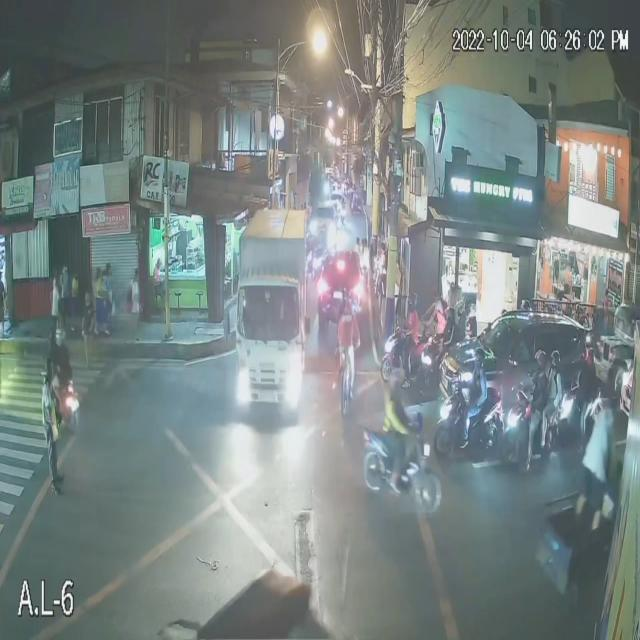Full-Faced: (469, 347, 486, 376), (584, 345, 598, 369), (338, 293, 352, 312), (454, 298, 466, 320), (392, 370, 405, 389), (407, 292, 418, 313), (464, 305, 479, 319), (54, 325, 64, 345)
Half-Faced: (442, 306, 457, 334), (545, 344, 560, 372), (533, 351, 547, 374)
